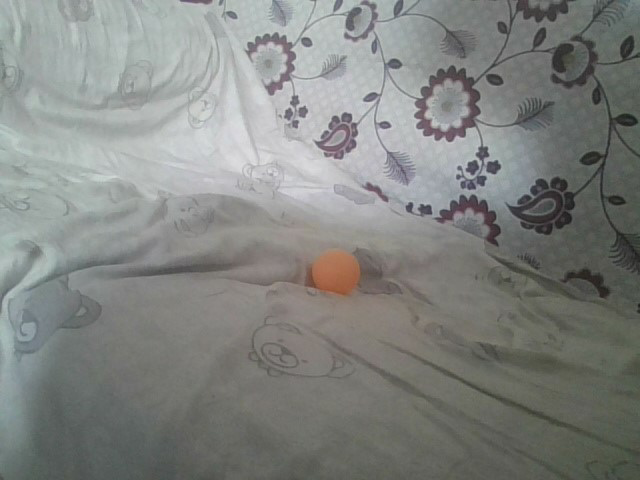ball: (314, 247, 359, 297)
